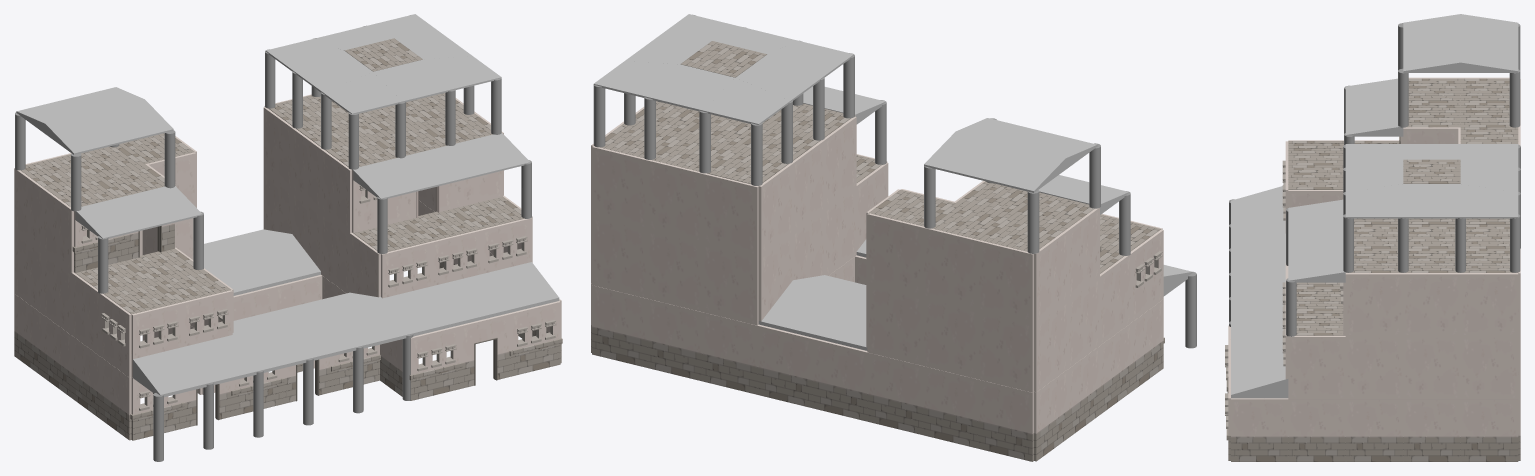
Rendered from SM_Bld_Temp_Building_03.fbx.
The picture shows the model from 3 angles, left to right: view 1: azimuth 30°, elevation 25°; view 2: azimuth 150°, elevation 25°; view 3: azimuth 270°, elevation 25°; orthographic projection. The views are drawn at different scales.
Parts seen in each view (by area): view 1: SM_Bld_Temp_Building_03; view 2: SM_Bld_Temp_Building_03; view 3: SM_Bld_Temp_Building_03.
Boxes of the visible parts, bbox=[...] form: SM_Bld_Temp_Building_03: bbox=[14, 14, 562, 461]; SM_Bld_Temp_Building_03: bbox=[591, 14, 1196, 461]; SM_Bld_Temp_Building_03: bbox=[1225, 14, 1520, 461].
Size of the model in its own units: 2037 by 1213 by 1287.
